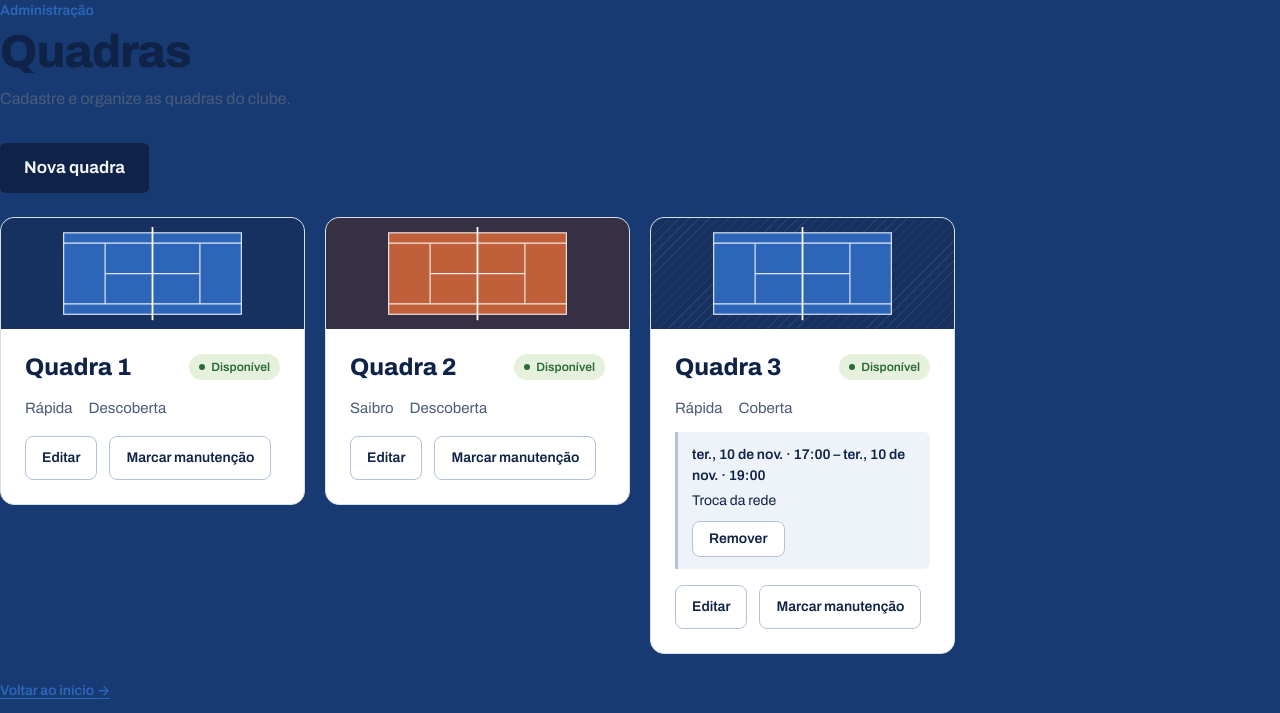
Scenario: CourtsPage › nome vazio mostra erro no campo e foca nele
This screenshot has width=1280, height=713.
Click the button "Nova quadra": coordinates (74, 168) x1=0 y1=143 x2=149 y2=193
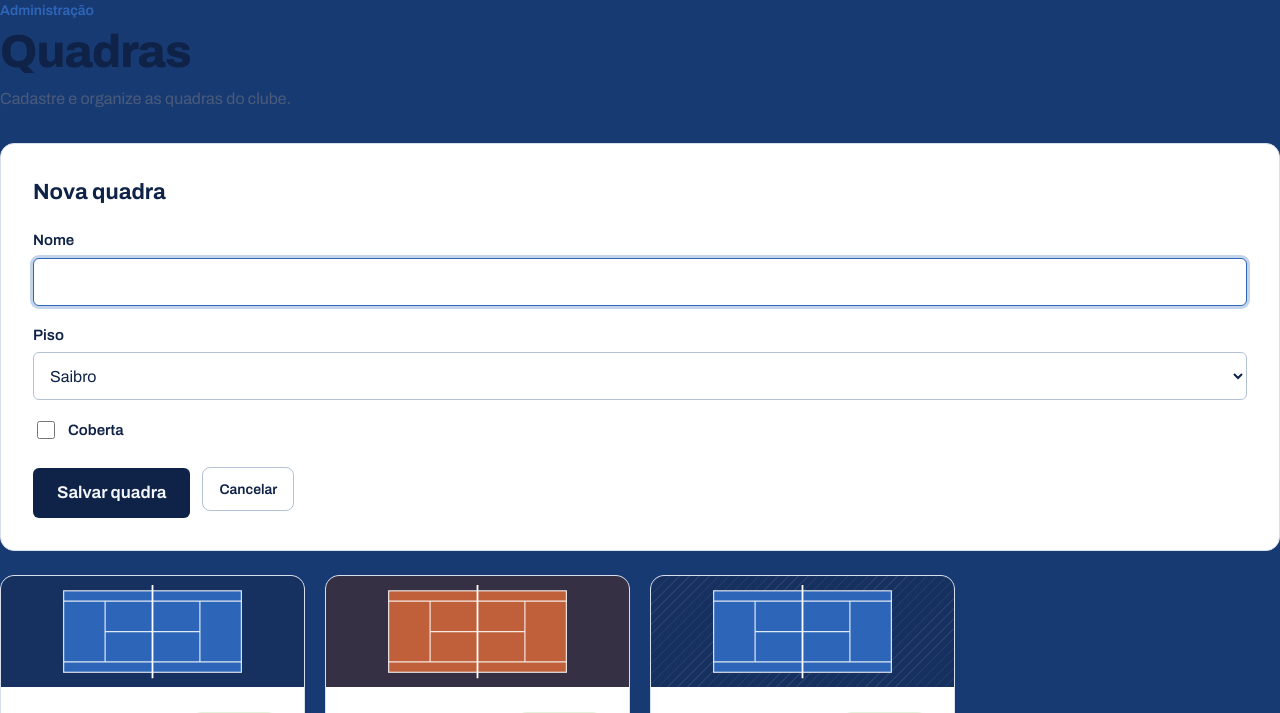
Click the button "Salvar quadra": coordinates (112, 493) x1=33 y1=468 x2=190 y2=518
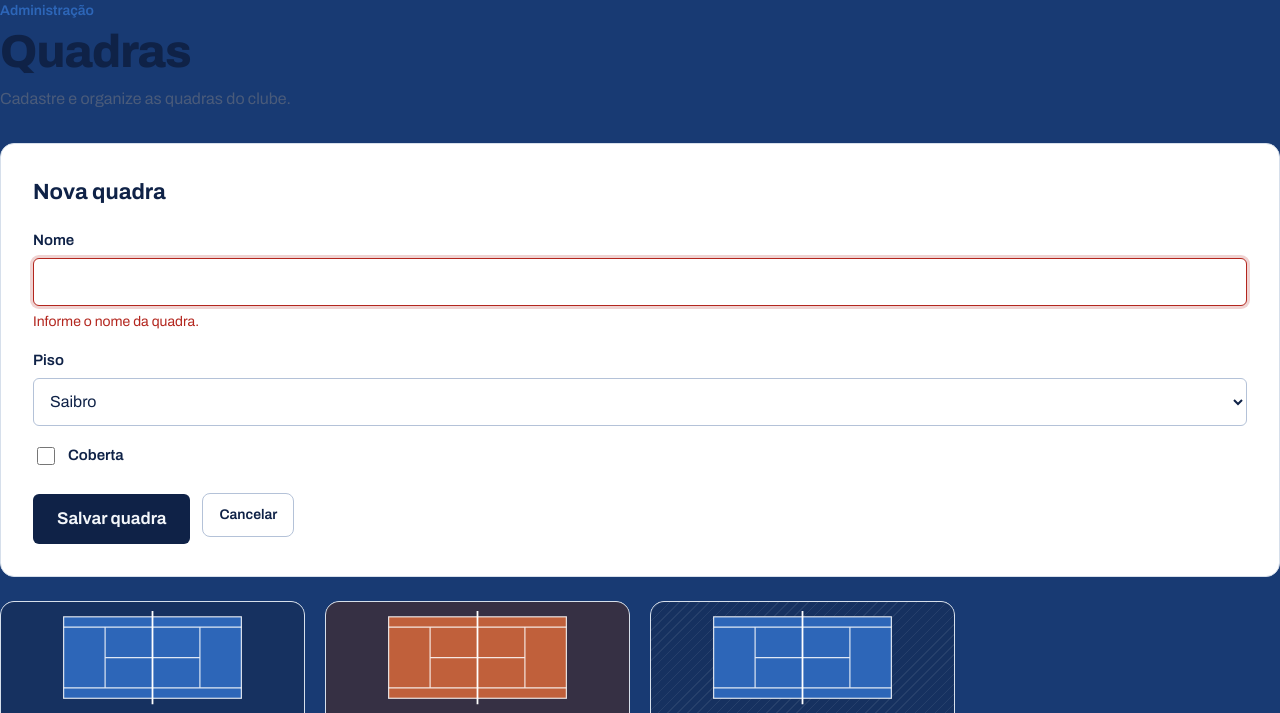
Expected: the text "Informe o nome da quadra." is shown, x1=33 y1=314 x2=199 y2=329
